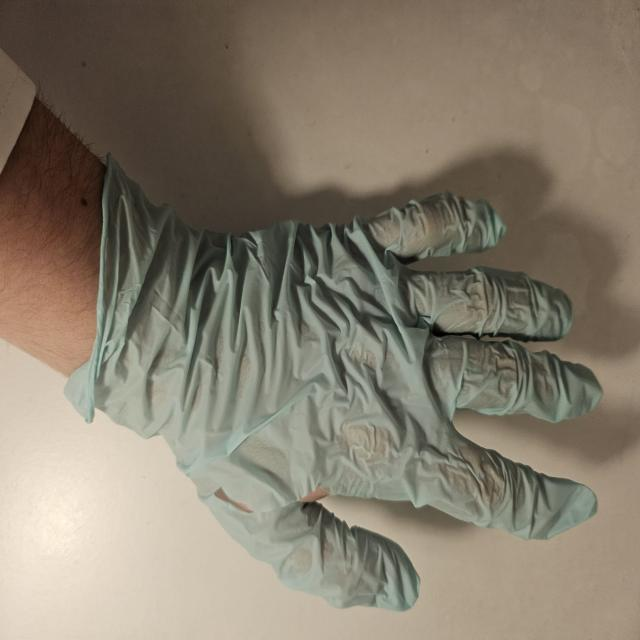gloves_damaged: (62, 138, 604, 609)
